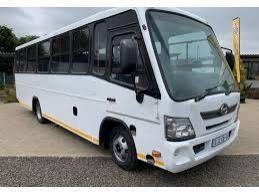bus: (15, 6, 242, 173)
